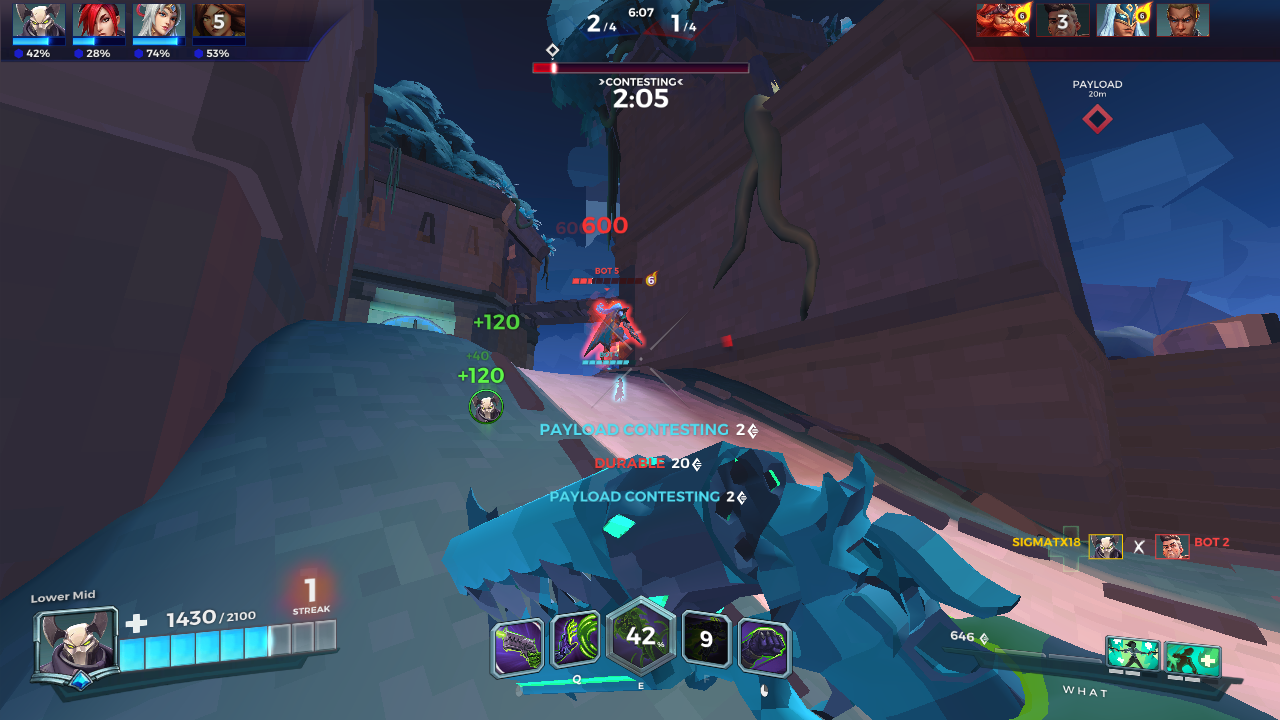model: (601, 294, 632, 369)
